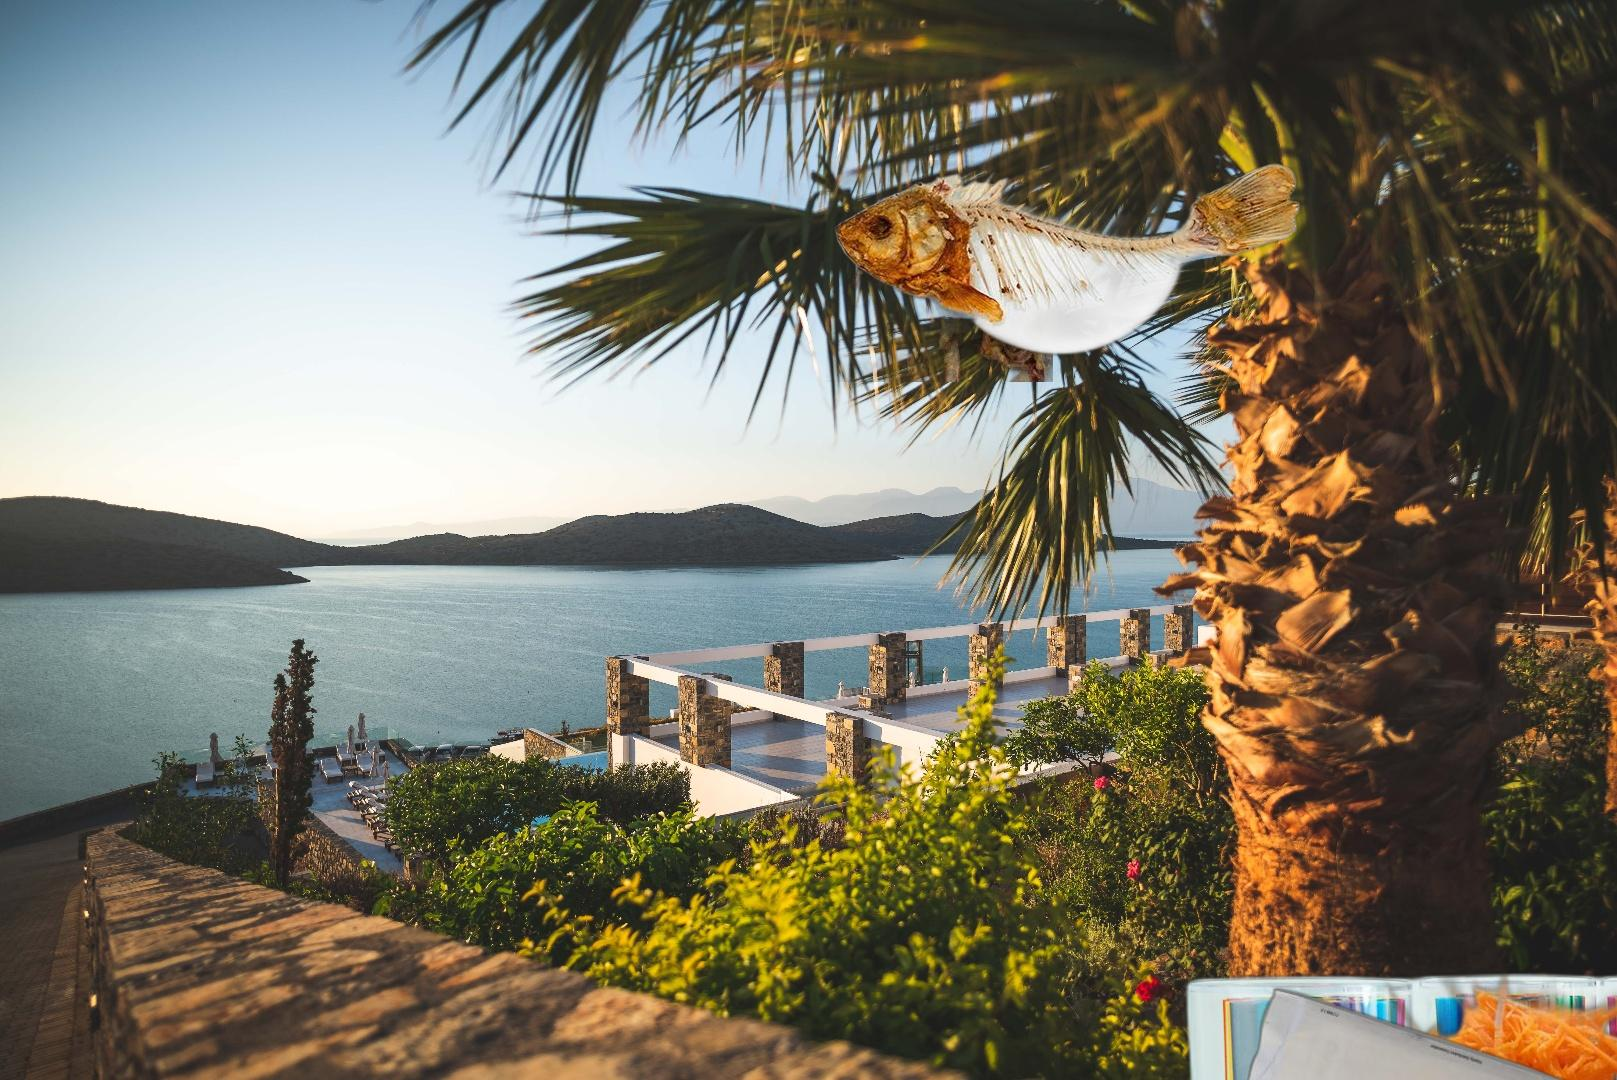biological: (828, 160, 1306, 360), (827, 160, 1053, 382), (1350, 972, 1617, 1080)
paper: (1209, 986, 1617, 1080)
penholder: (1127, 965, 1617, 1080)
